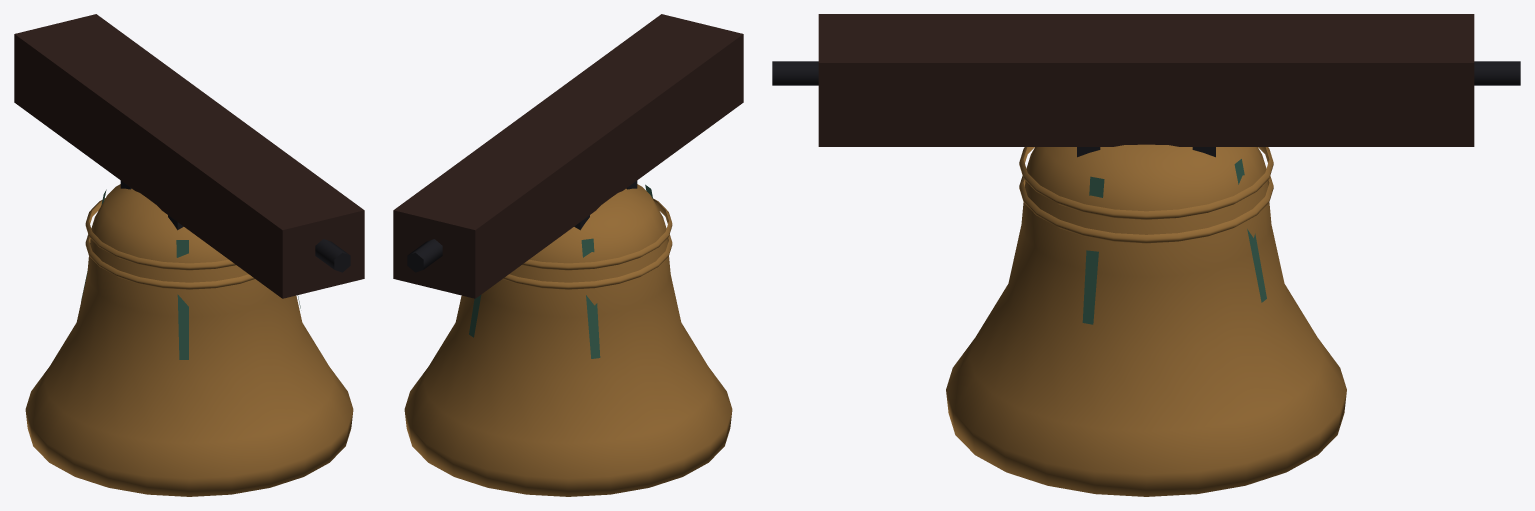
The model's file is hg-bell.glb.
3 views of the same model, side by side, from view 1: azimuth 30°, elevation 25°; view 2: azimuth 150°, elevation 25°; view 3: azimuth 270°, elevation 25° (orthographic). The views are drawn at different scales.
Visible parts, largest first — view 1: hg-bell; view 2: hg-bell; view 3: hg-bell.
Part boxes in pixels (box(x1,y1,x2,y2)): hg-bell: box(14, 14, 364, 496); hg-bell: box(393, 14, 743, 496); hg-bell: box(772, 14, 1520, 496).
Bounding box in the file's own units: 1.04 × 1.07 × 1.94.
